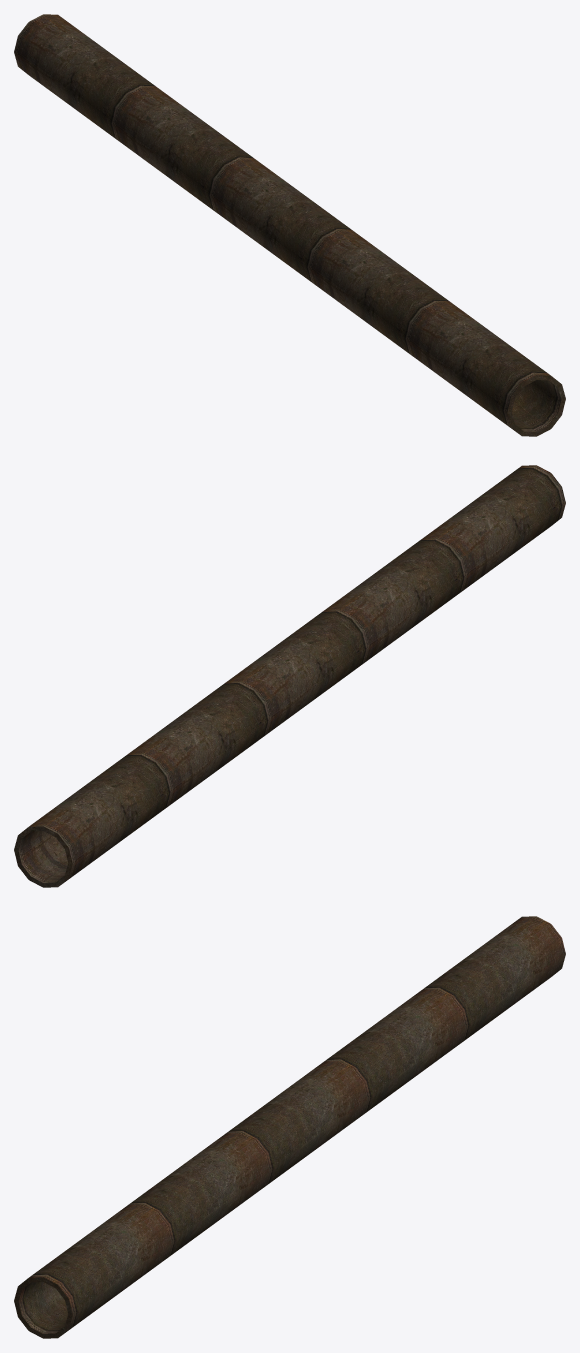
File: pipe_ax_1.obj
The picture shows the model from 3 angles, top to bottom: view 1: azimuth 30°, elevation 25°; view 2: azimuth 150°, elevation 25°; view 3: azimuth 330°, elevation 25°; orthographic projection.
Visible parts, largest first — view 1: pipe_ax_1; view 2: pipe_ax_1; view 3: pipe_ax_1.
Boxes of the visible parts, left/top/right/bottom form: pipe_ax_1: left=14, top=14, right=565, bottom=436; pipe_ax_1: left=14, top=465, right=565, bottom=887; pipe_ax_1: left=14, top=916, right=565, bottom=1338.
Bounding box in the file's own units: 0.5 × 0.5 × 7.26.
